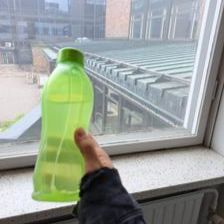bottle: (31, 43, 96, 206)
